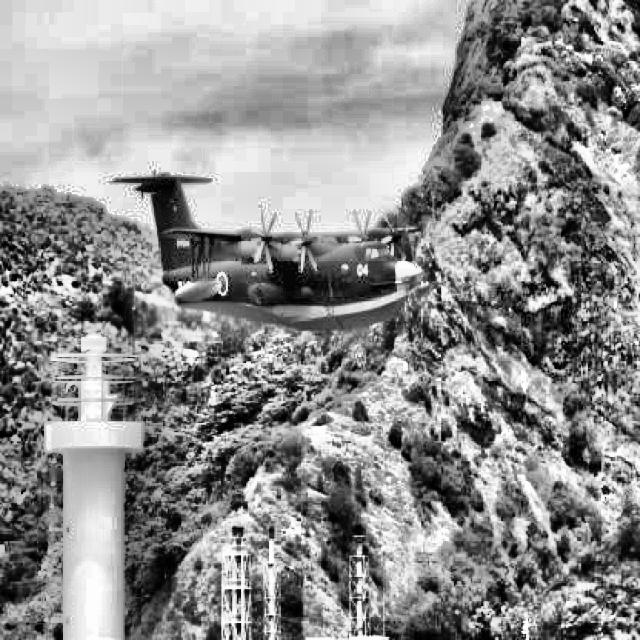US2: (107, 169, 419, 331)
